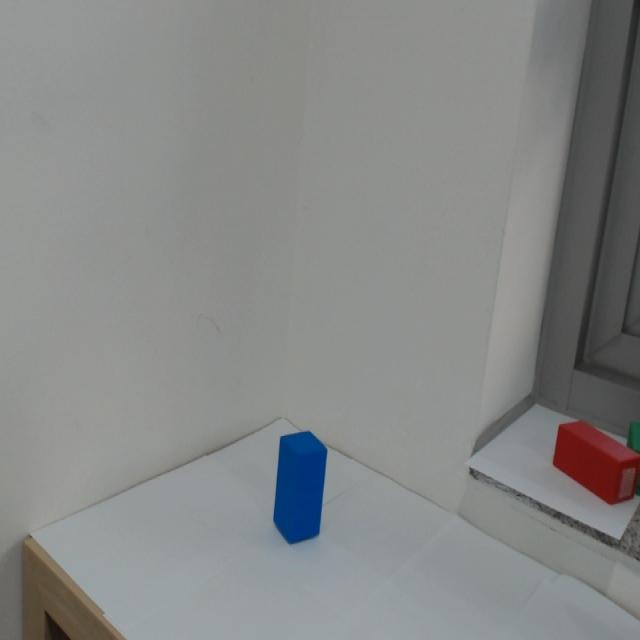cube: (255, 400, 351, 583)
